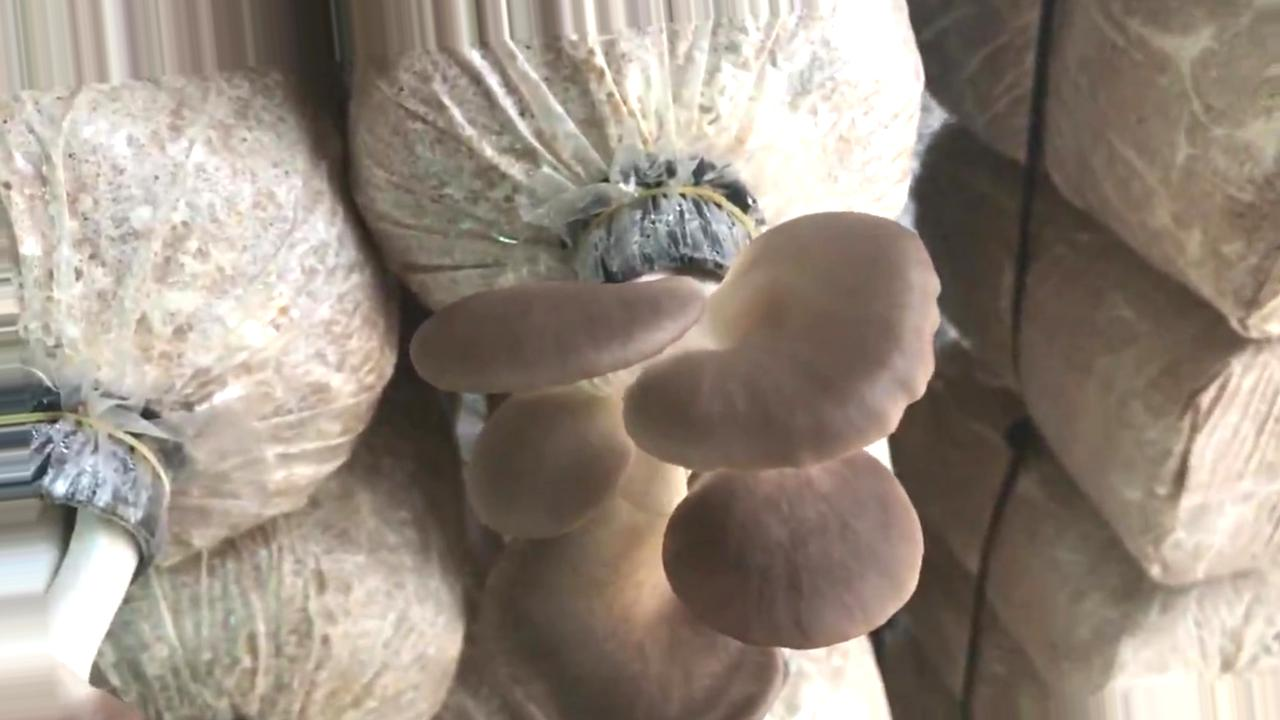nam: (408, 188, 940, 720), (1, 398, 174, 718)
